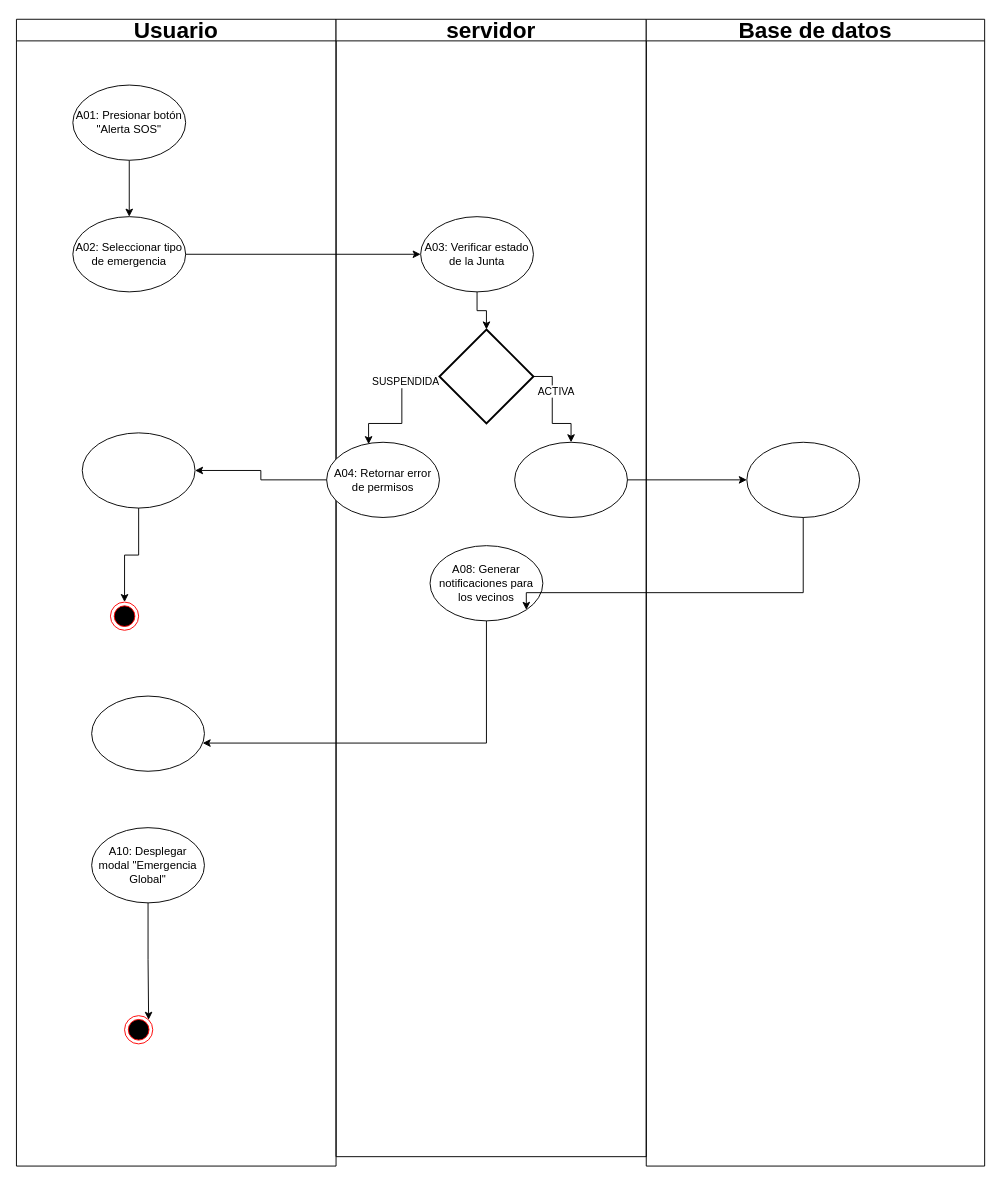
The diagram is 1001 pixels wide and 1183 high, and some of its shapes have lost their labels. The centre of each missing label's shape, as x and y in pixels:
"A05: Mostrar pantalla roja de bloqueo" goes at (138,470).
"A06: Procesar creación de alerta" goes at (570,479).
"A07: Insertar registro en tabla AlertaSos" goes at (803,479).
"A09: Actualizar muro con alerta fijada" goes at (147,733).
"¿Estado de la junta?" goes at (486,376).
